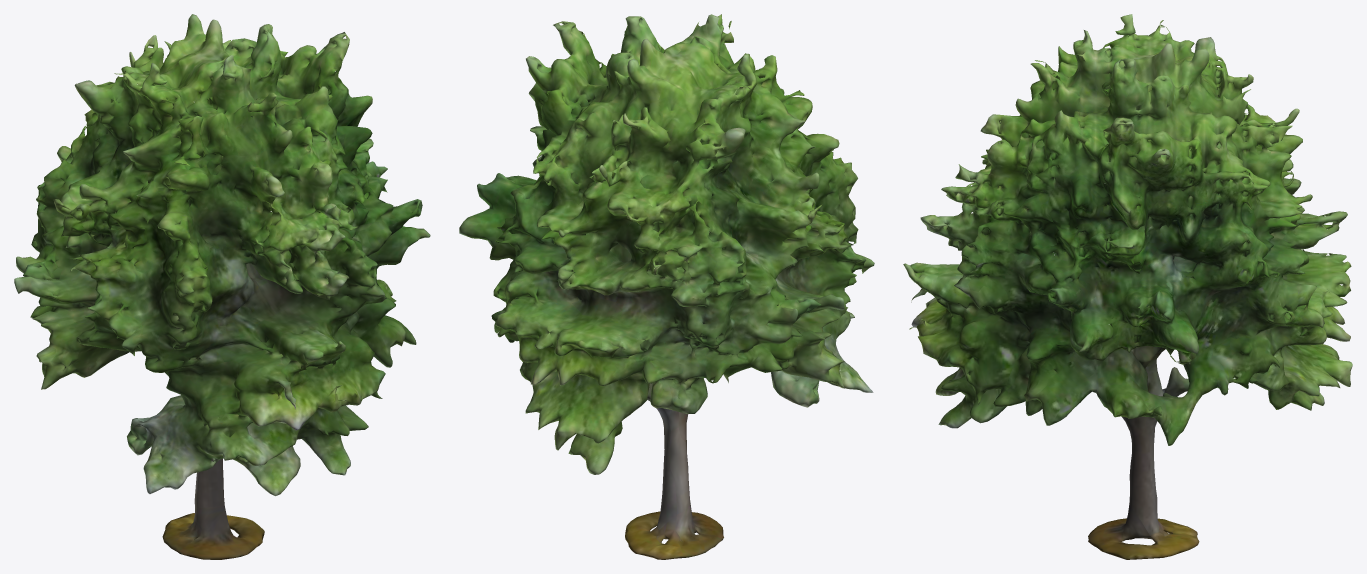
File: tree_draft.glb
3 views of the same model, side by side, from view 1: azimuth 30°, elevation 25°; view 2: azimuth 150°, elevation 25°; view 3: azimuth 270°, elevation 25° (orthographic).
Visible parts, largest first — view 1: geometry_0; view 2: geometry_0; view 3: geometry_0.
Boxes of the visible parts, bbox=[...] form: geometry_0: bbox=[14, 14, 430, 559]; geometry_0: bbox=[459, 14, 874, 559]; geometry_0: bbox=[903, 14, 1352, 559].
Size of the model in its own units: 0.5921 by 0.7701 by 0.6193.
Materials: 1 (1 with a texture image).
